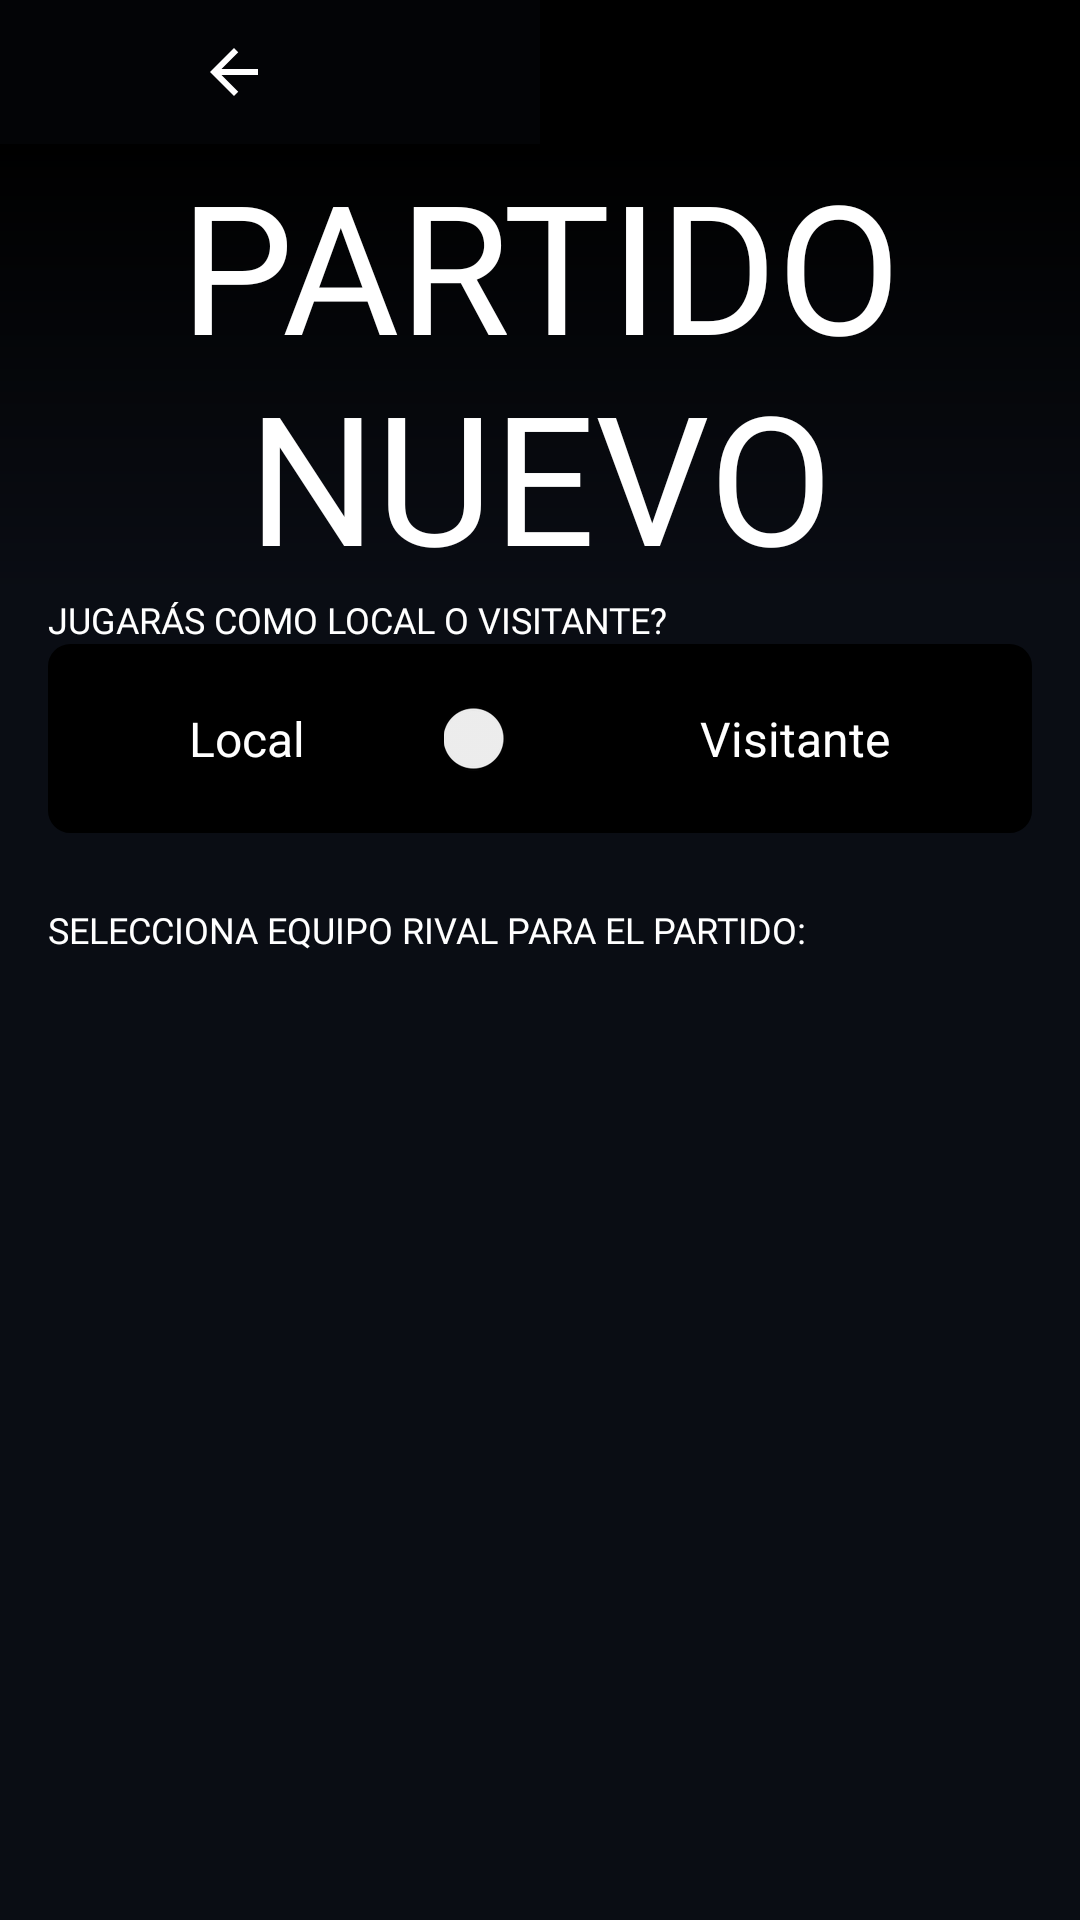

Icons on this 1080w x 1920h Android screen, each with its box as box=[x1, y1, x2, y2]:
arrow back: box=[210, 48, 258, 96]
